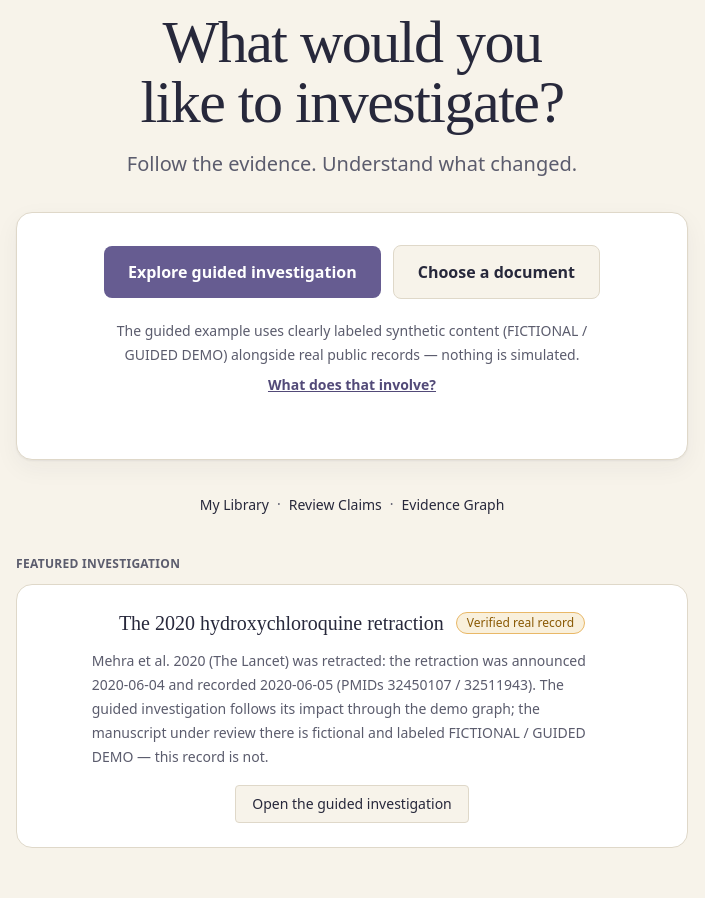
Test: LandingPage (Wave U1 entry experience) › discloses what the guided seed does before running it — guarded path, synthetic labeling, idempotent reseed
Click the button "What does that involve?" at (352, 385), box x1=268 y1=375 x2=436 y2=395
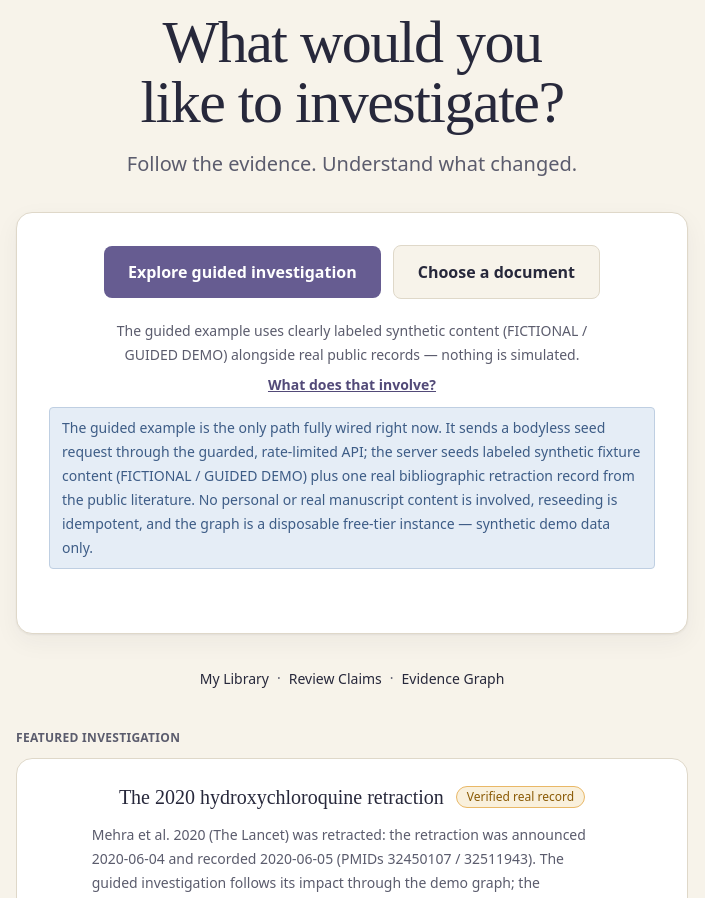
expect the text "guarded, rate-limited" is shown: met, box x1=62 y1=418 x2=640 y2=557
expect the text "FICTIONAL / GUIDED DEMO" is shown: met, box x1=62 y1=418 x2=640 y2=557
expect the text "idempotent" is shown: met, box x1=62 y1=418 x2=640 y2=557
